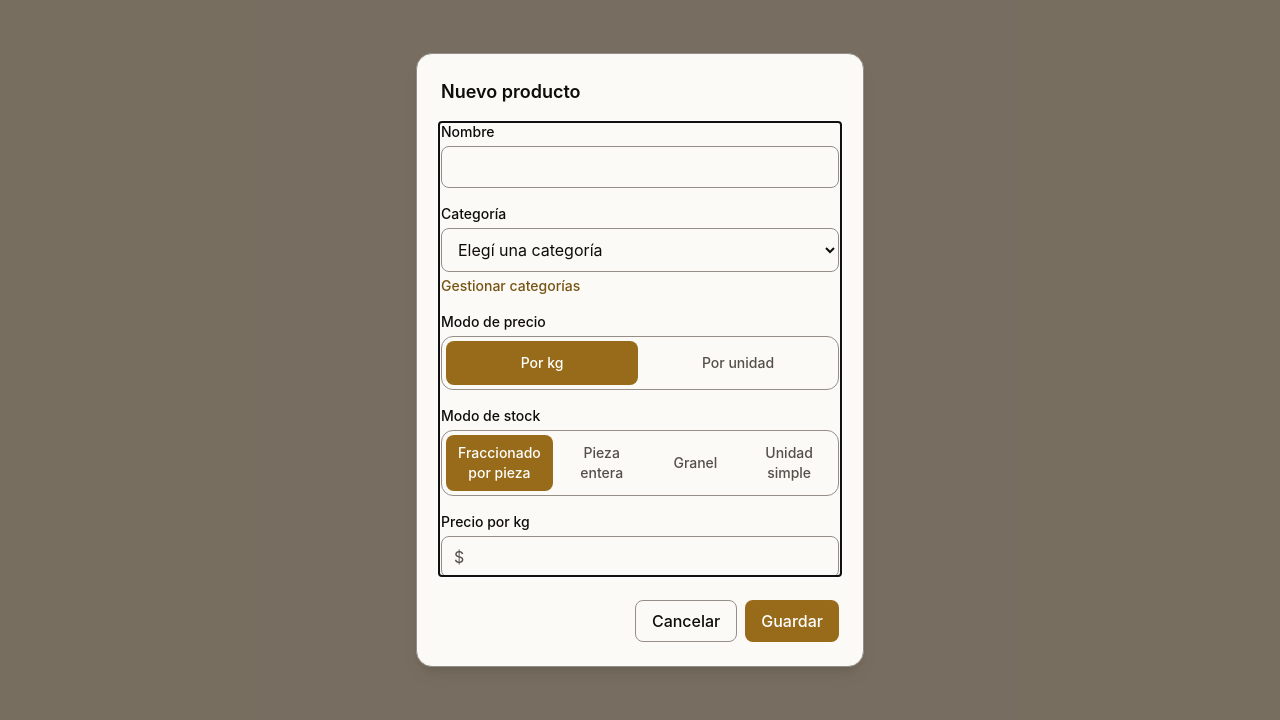
Test: ModalProducto - picker de categoría con creación inline (UI-5b, docs/06-ui-ux.md §2) › duplicada: muestra el mensaje de CategoriaDuplicadaError inline y NO vuelve al select
Select "+ Nueva categoría…" in the dropdown labelled "Categoría" at (640, 250), box x1=441 y1=228 x2=839 y2=272
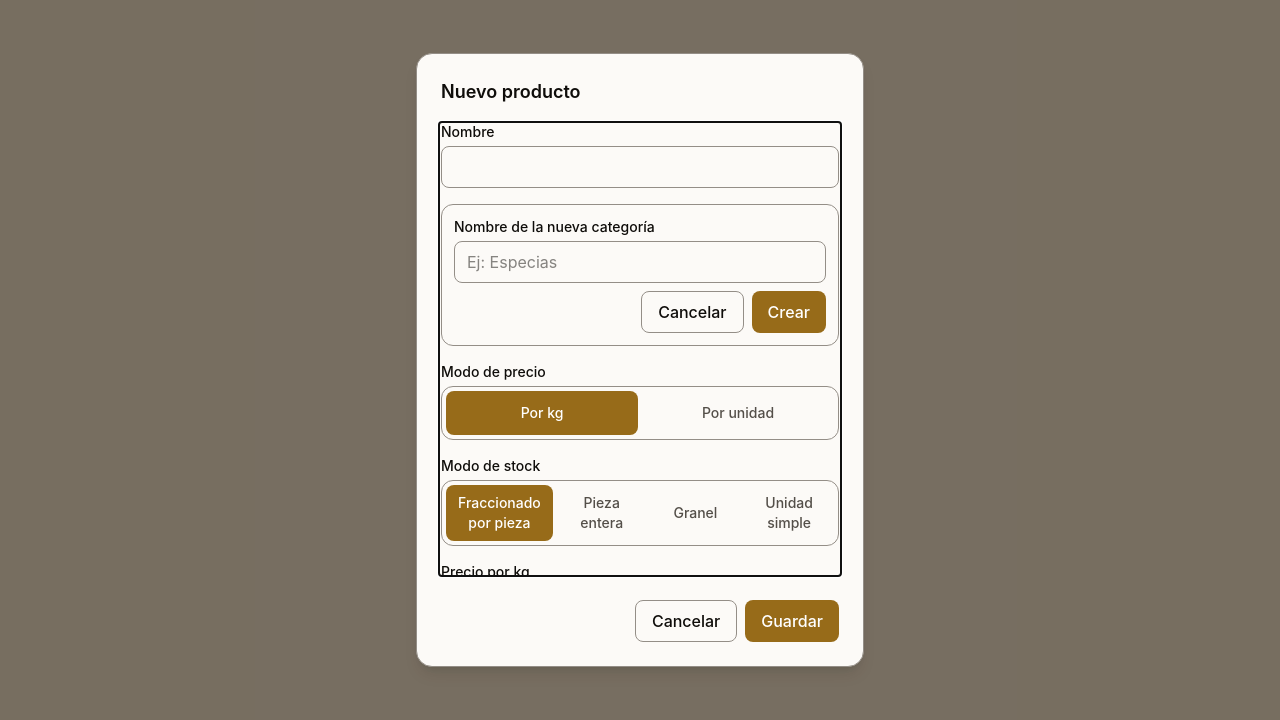
Type "Quesos" into the field labelled "Nombre de la nueva categoría" at (640, 262), box x1=454 y1=241 x2=826 y2=283
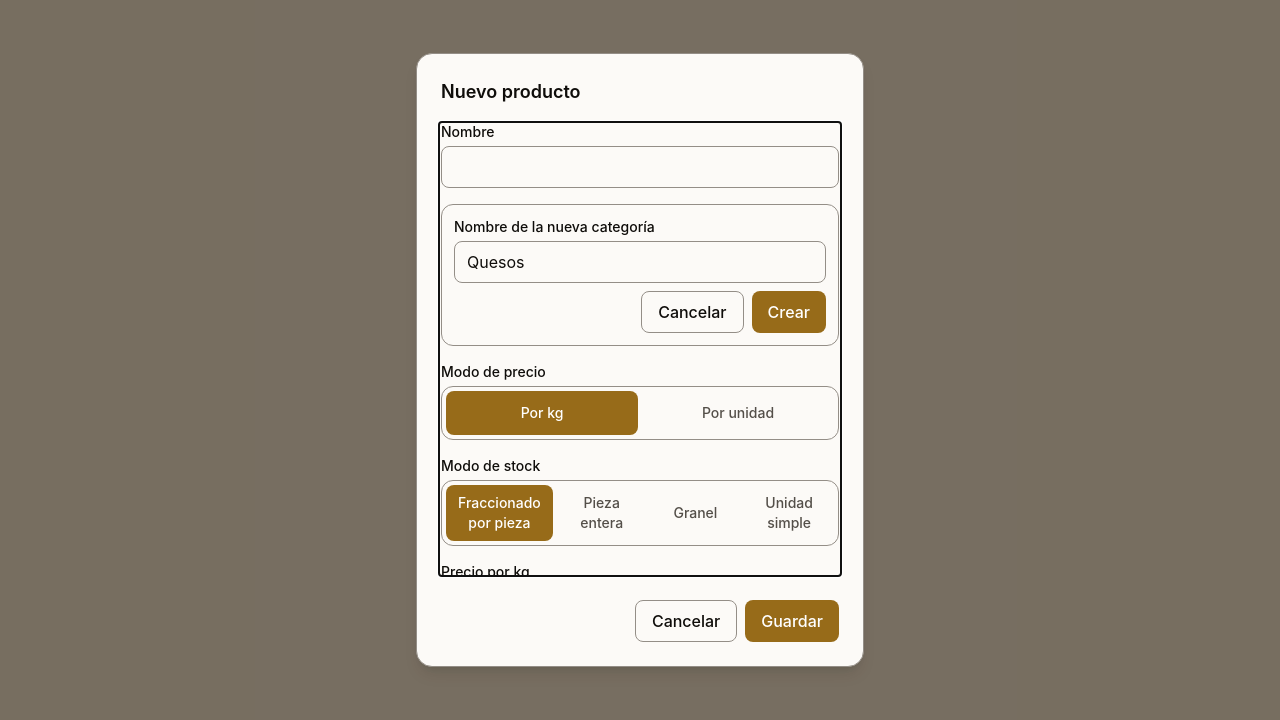
Click the button "Crear" at (789, 312), box x1=752 y1=291 x2=826 y2=333
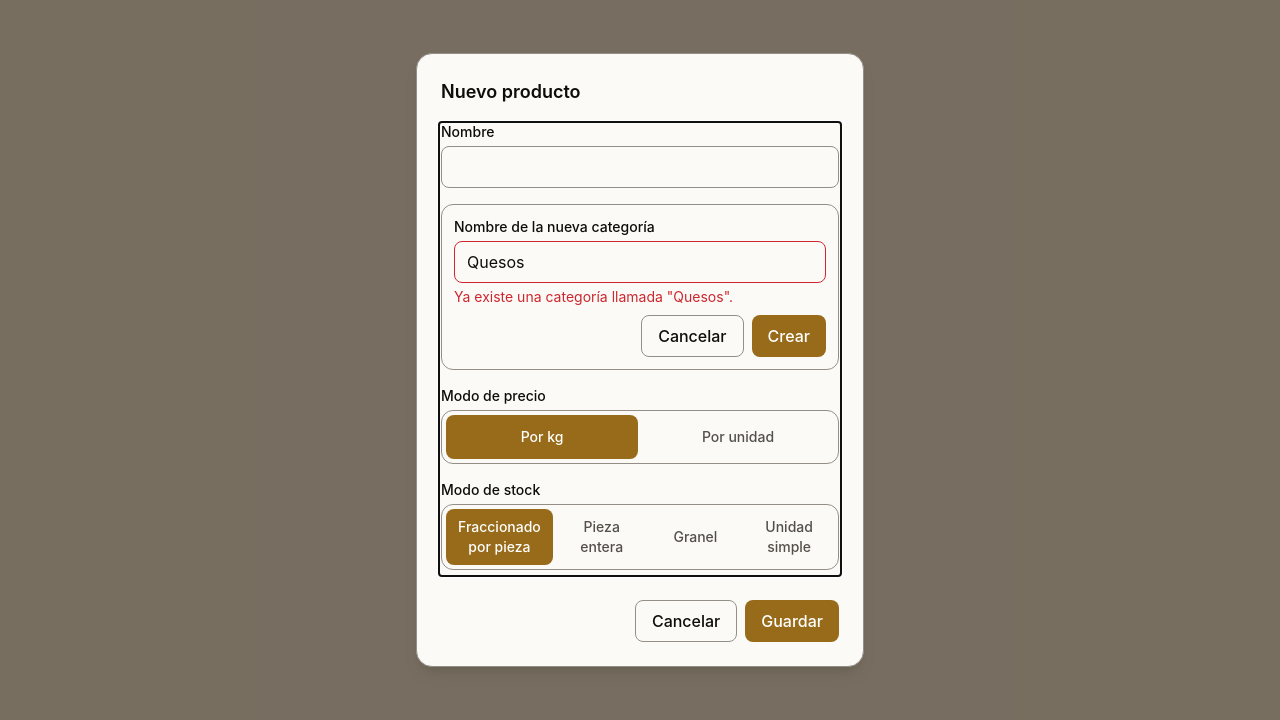
Expected: the text "Ya existe una categoría llamada \"Quesos\"." is shown, x1=454 y1=288 x2=733 y2=305
